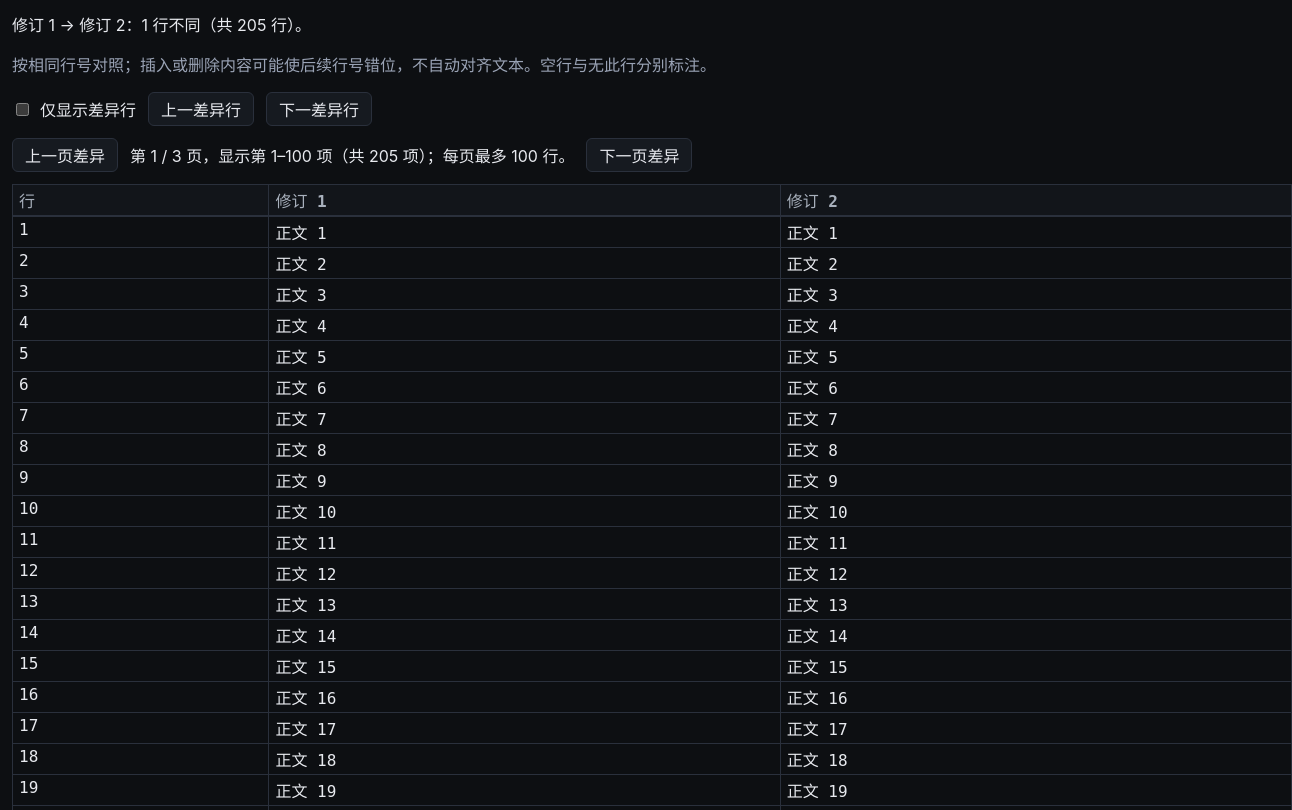
Prompt revision comparison usability › paginates long comparisons without truncating their totals or last lines
Expected: the text "修订 1 → 修订 2：1 行不同（共 205 行）。" is shown, [12,15,311,35]
Expected: the text "正文 205 修改" is not shown
What coordinates should you click on to do the following:
click the button "下一页差异"
I would click on:
 (639, 155)
Its box is [586,138,692,172].
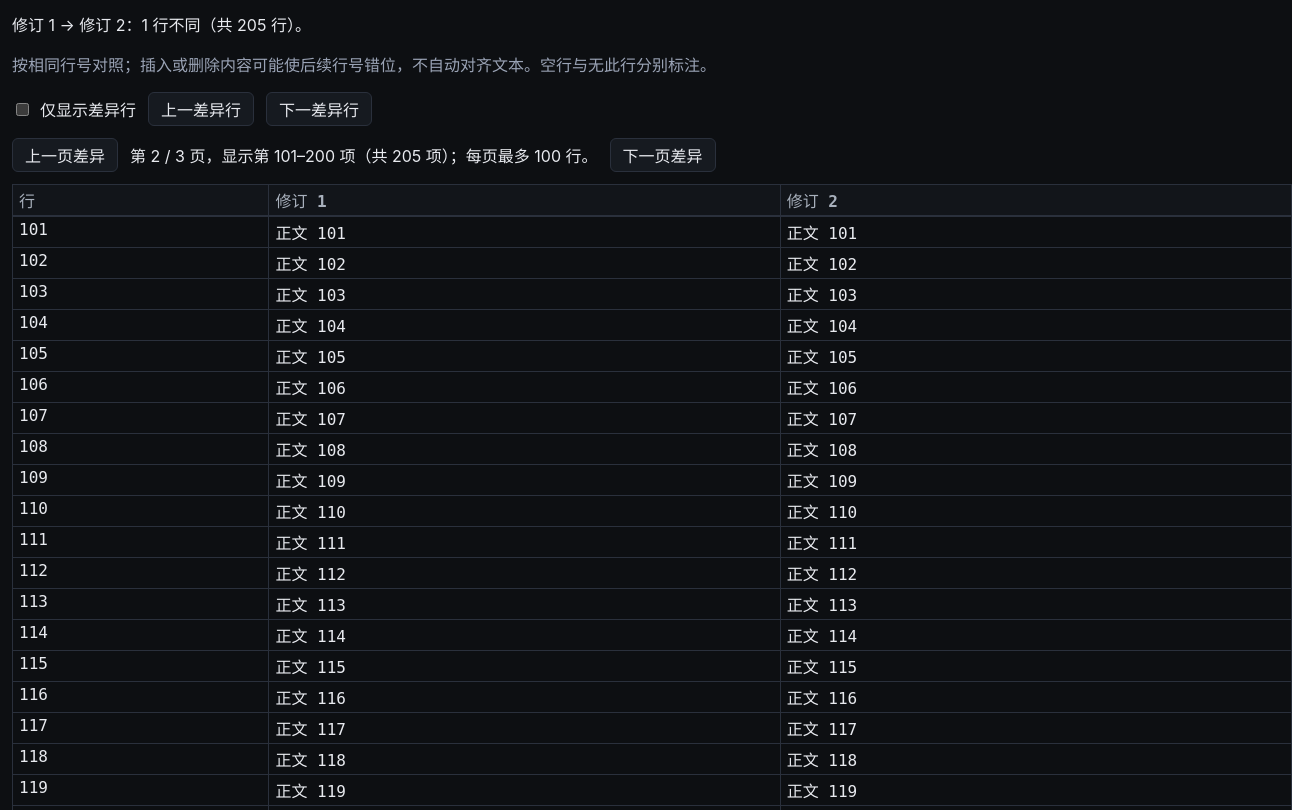
What coordinates should you click on to do the following:
click the button "下一页差异"
I would click on:
 (662, 155)
Its box is [610,138,716,172].
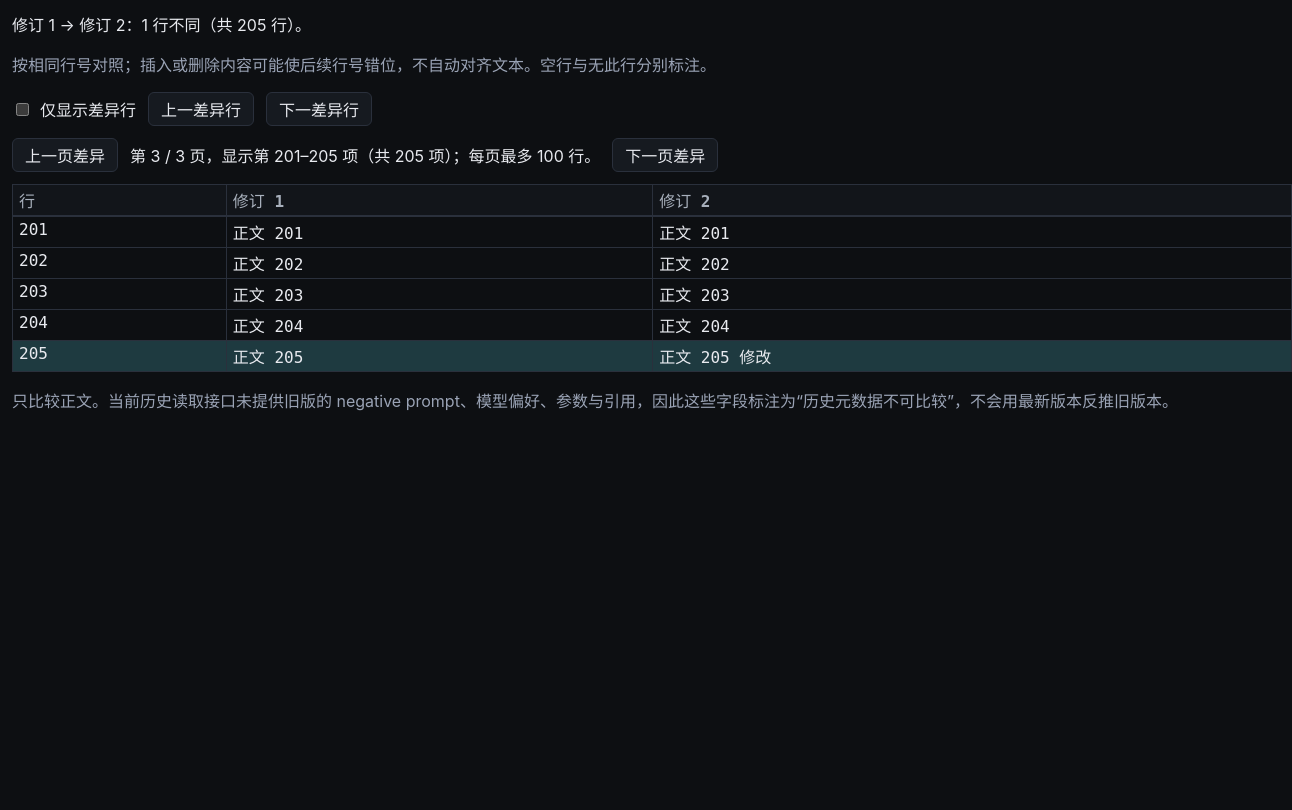
Now the text "正文 205 修改" is shown, box [653,340,1291,372]
Now the number of rows is 6, box [12,184,1291,216]; [12,216,1291,248]; [12,248,1291,278]; [12,278,1291,310]; [12,310,1291,340]; [12,340,1291,372]
Now the button "下一页差异" is disabled, box [612,138,718,172]
What coordinates should you click on to do the following:
click the button "上一页差异"
I would click on:
 (65, 155)
Its box is [12,138,118,172].
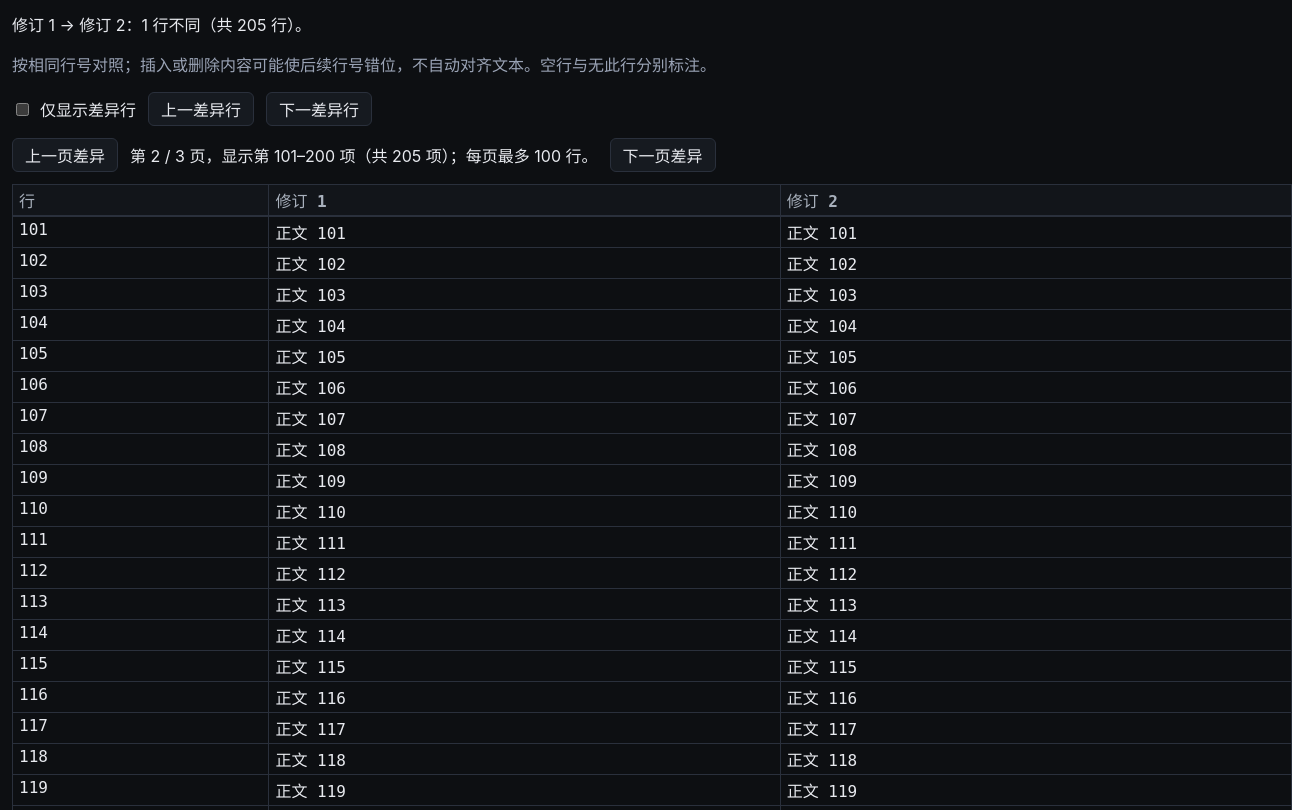
Now the text "正文 205 修改" is gone
